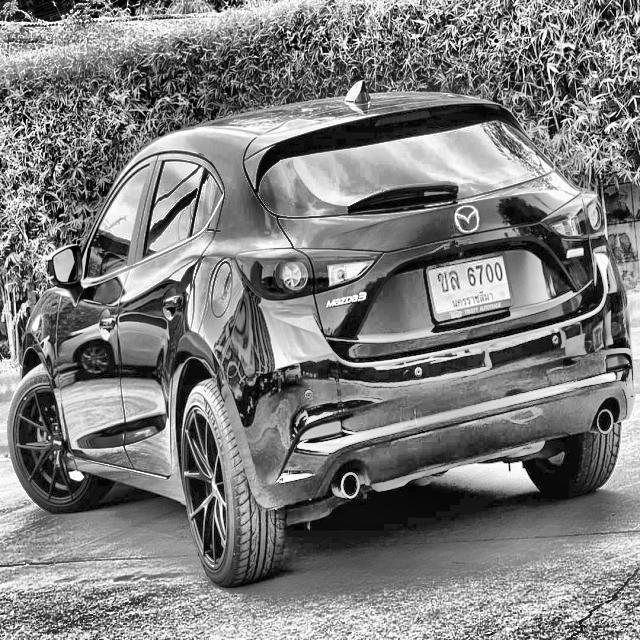license-plate: (426, 251, 516, 336)
